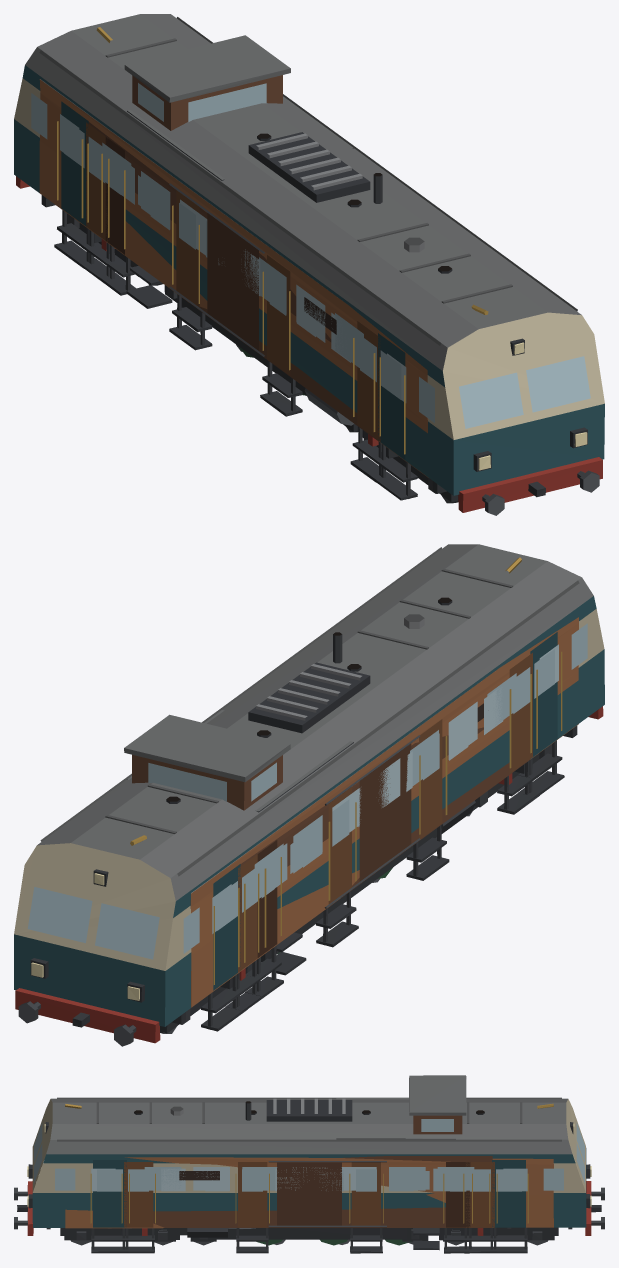
Rendered from aubrune-trains.glb.
The picture shows the model from 3 angles, top to bottom: view 1: azimuth 30°, elevation 25°; view 2: azimuth 150°, elevation 25°; view 3: azimuth 270°, elevation 25°; orthographic projection. The views are drawn at different scales.
Parts seen in each view (by area): view 1: railcar, passenger-coach, luggage-van, tank-engine; view 2: railcar, passenger-coach, luggage-van, tank-engine; view 3: railcar, passenger-coach, luggage-van, tank-engine.
Part boxes in pixels (x1,y1,x2,y2): railcar: (14, 14, 604, 515); passenger-coach: (39, 79, 452, 493); luggage-van: (88, 35, 398, 458); tank-engine: (101, 96, 378, 446); railcar: (14, 544, 604, 1046); passenger-coach: (166, 597, 578, 1024); luggage-van: (124, 703, 530, 996); tank-engine: (126, 710, 512, 980); railcar: (14, 1097, 604, 1253); passenger-coach: (46, 1110, 572, 1253); luggage-van: (107, 1075, 511, 1253); tank-engine: (128, 1098, 483, 1250).
Bounding box in the file's own units: 2.93 × 3.76 × 14.52.
